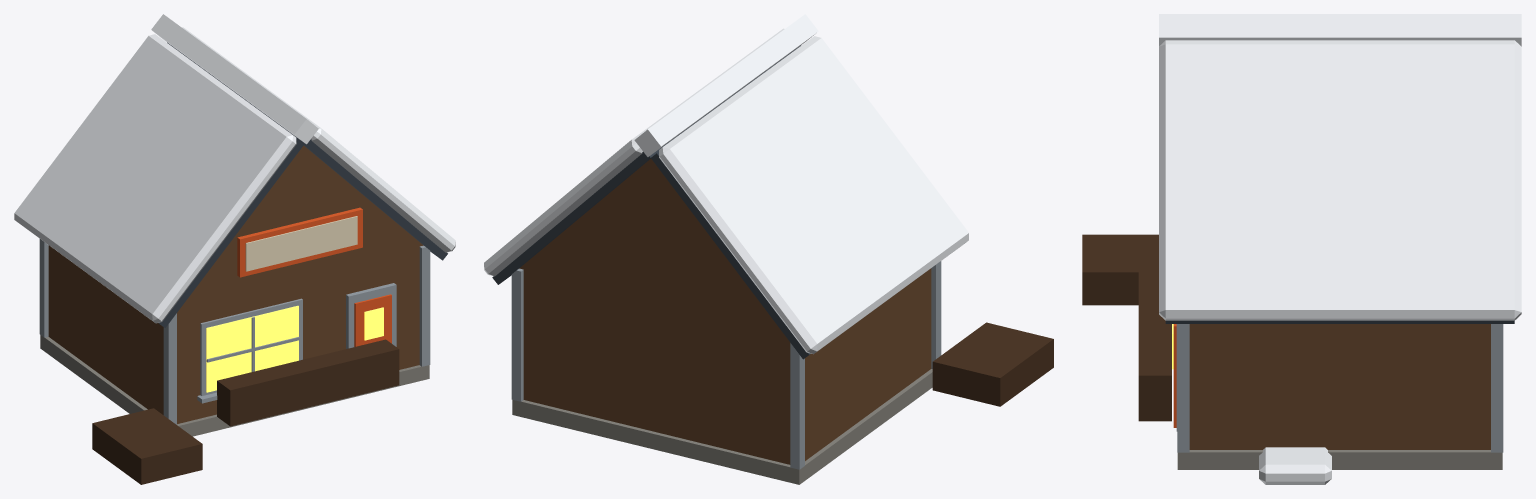
The model's file is rental-shop-aframe60s.glb.
The picture shows the model from 3 angles, left to right: view 1: azimuth 30°, elevation 25°; view 2: azimuth 150°, elevation 25°; view 3: azimuth 270°, elevation 25°; orthographic projection. The views are drawn at different scales.
Visible parts, largest first — view 1: rental-shop-aframe60s; view 2: rental-shop-aframe60s; view 3: rental-shop-aframe60s.
Boxes of the visible parts, x1=… form: rental-shop-aframe60s: x1=14, y1=14, x2=455, y2=484; rental-shop-aframe60s: x1=484, y1=14, x2=1053, y2=484; rental-shop-aframe60s: x1=1082, y1=14, x2=1521, y2=484.
Size of the model in its own units: 9.25 by 7.4 by 7.84.
